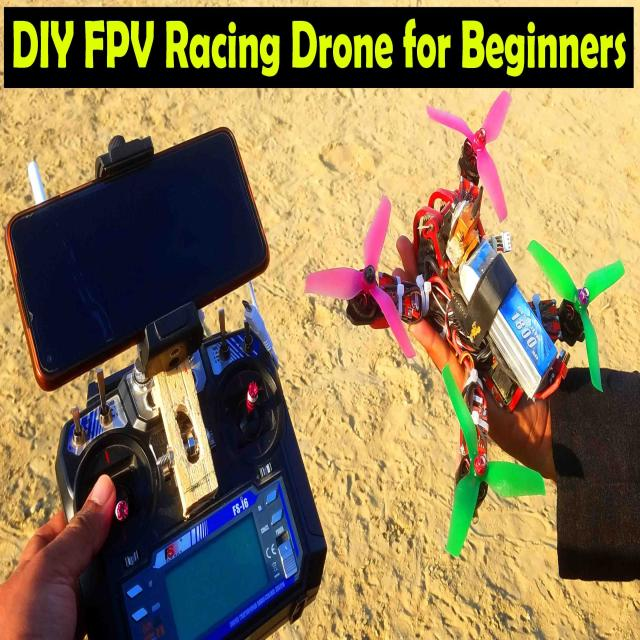drone: (321, 120, 640, 549)
